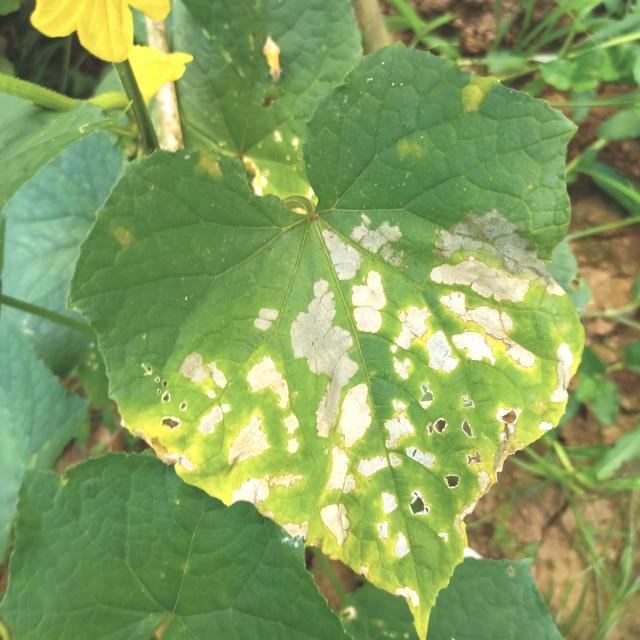disease_cucumber: (181, 207, 571, 592), (456, 70, 502, 121)
